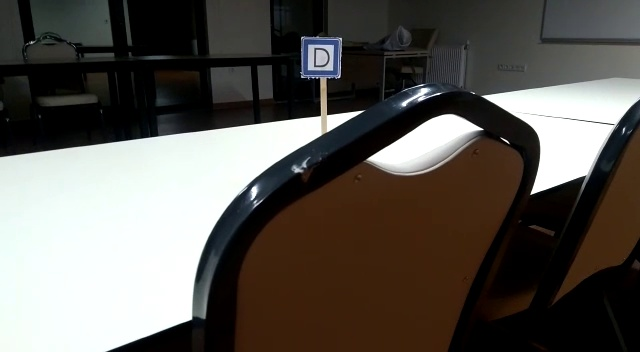durak: (302, 37, 342, 77)
